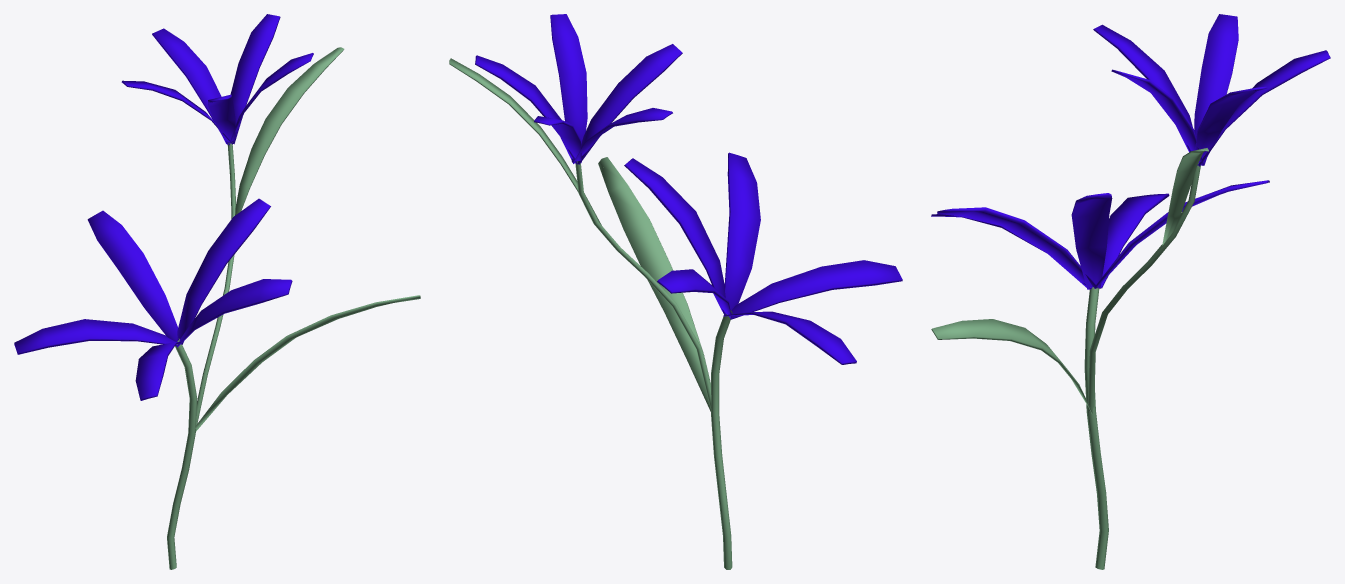
The model's file is Flower.fbx.
The picture shows the model from 3 angles, left to right: view 1: azimuth 30°, elevation 25°; view 2: azimuth 150°, elevation 25°; view 3: azimuth 270°, elevation 25°; orthographic projection. The views are drawn at different scales.
Parts seen in each view (by area): view 1: Plane, Plane.001, Plane.003, NurbsPath, Plane.002, NurbsPath.001; view 2: Plane, Plane.001, Plane.002, NurbsPath, NurbsPath.001, Plane.003; view 3: Plane.001, Plane, NurbsPath, Plane.002, NurbsPath.001, Plane.003.
Boxes of the visible parts, <box> form: Plane: <box>14,198,292,400</box>; Plane.001: <box>121,14,313,145</box>; Plane.003: <box>235,47,344,215</box>; NurbsPath: <box>167,338,197,569</box>; Plane.002: <box>195,295,420,431</box>; NurbsPath.001: <box>196,142,235,429</box>; Plane: <box>624,152,902,364</box>; Plane.001: <box>475,14,682,164</box>; Plane.002: <box>598,157,710,411</box>; NurbsPath: <box>711,310,732,569</box>; NurbsPath.001: <box>575,161,711,408</box>; Plane.003: <box>449,58,601,225</box>; Plane.001: <box>1093,14,1330,166</box>; Plane: <box>931,180,1269,289</box>; NurbsPath: <box>1084,287,1108,569</box>; Plane.002: <box>931,319,1092,413</box>; NurbsPath.001: <box>1088,163,1200,411</box>; Plane.003: <box>1162,148,1208,245</box>.
Bounding box in the file's own units: 207 × 268 × 166.
